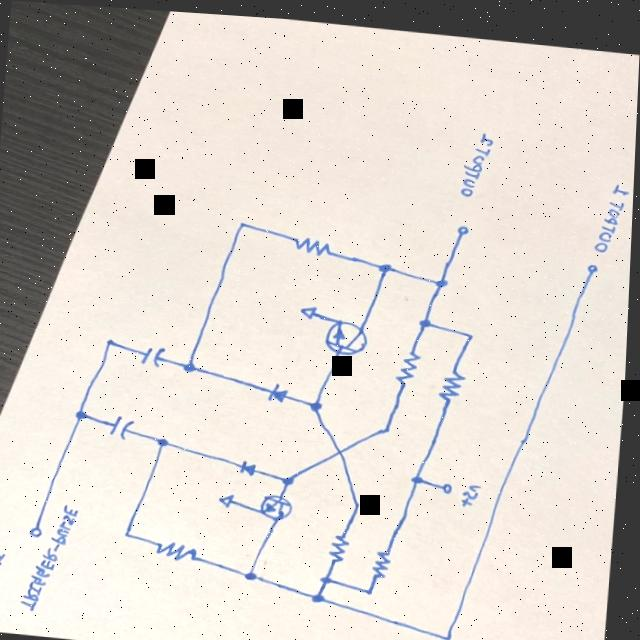capacitor: (140, 336, 172, 369), (111, 408, 140, 440)
diode: (268, 376, 297, 400), (239, 452, 269, 474)
ground: (298, 295, 326, 318), (220, 485, 245, 506)
junction: (180, 352, 205, 374), (308, 390, 332, 412), (374, 250, 399, 271), (418, 306, 440, 329), (72, 402, 96, 423), (233, 209, 257, 230), (459, 319, 484, 337), (433, 266, 455, 286), (334, 437, 356, 457), (125, 520, 143, 544), (283, 465, 304, 485), (104, 330, 123, 352), (364, 575, 385, 594), (158, 428, 177, 449), (410, 464, 432, 482), (246, 562, 265, 580), (444, 622, 465, 638), (314, 585, 335, 601), (322, 566, 340, 583), (380, 417, 399, 432), (353, 492, 370, 506)
resistor: (397, 337, 427, 382), (157, 533, 205, 561), (440, 361, 471, 401), (293, 228, 337, 253), (331, 524, 357, 560), (377, 538, 398, 574)
terminal: (31, 512, 52, 544), (453, 213, 475, 240), (583, 250, 605, 276), (437, 470, 462, 490)
text: (25, 498, 85, 614), (597, 172, 632, 245), (463, 123, 495, 193), (464, 471, 486, 503), (0, 545, 11, 598)
transistor: (328, 310, 375, 354), (261, 487, 302, 518)
